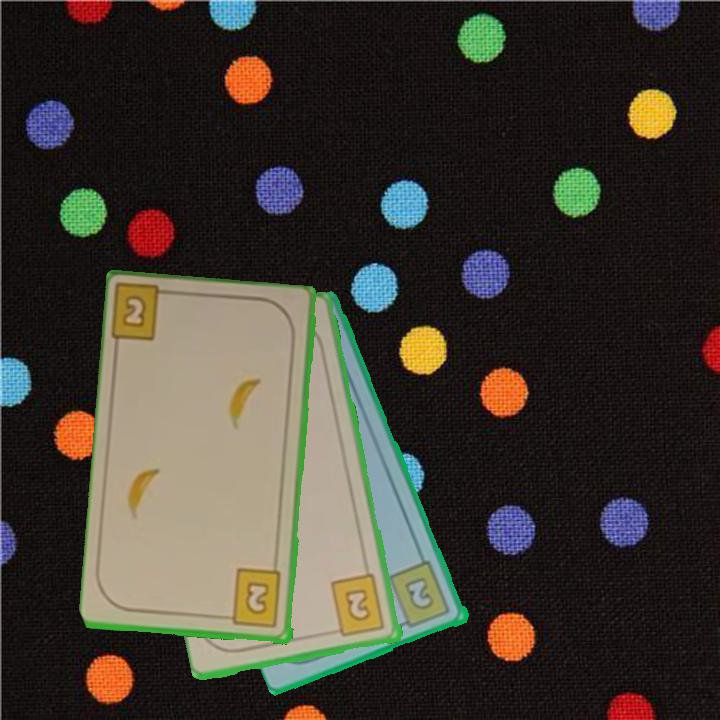2b: (386, 558, 454, 632), (110, 283, 179, 345), (220, 566, 285, 631), (327, 571, 388, 640)
